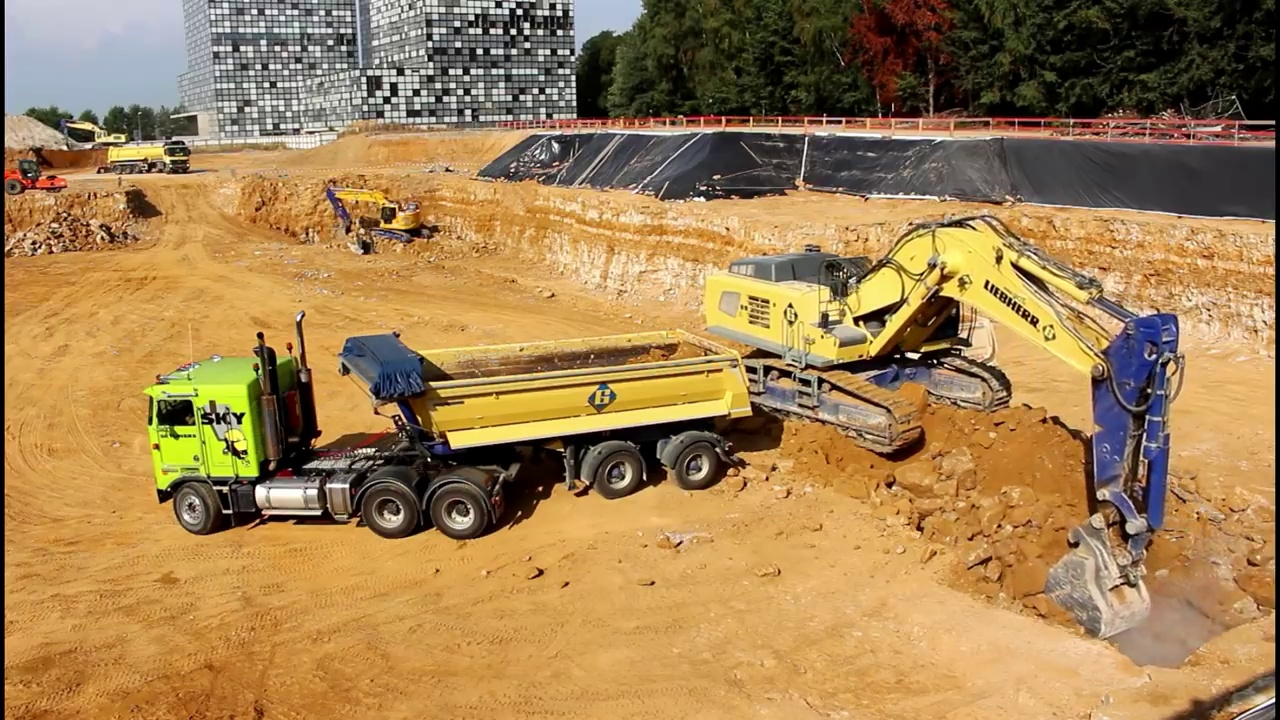compactor: (5, 154, 73, 198)
excavator: (699, 210, 1190, 643), (321, 181, 430, 259), (61, 113, 135, 154)
truck: (140, 306, 760, 548), (819, 248, 1011, 390), (102, 136, 194, 176)
